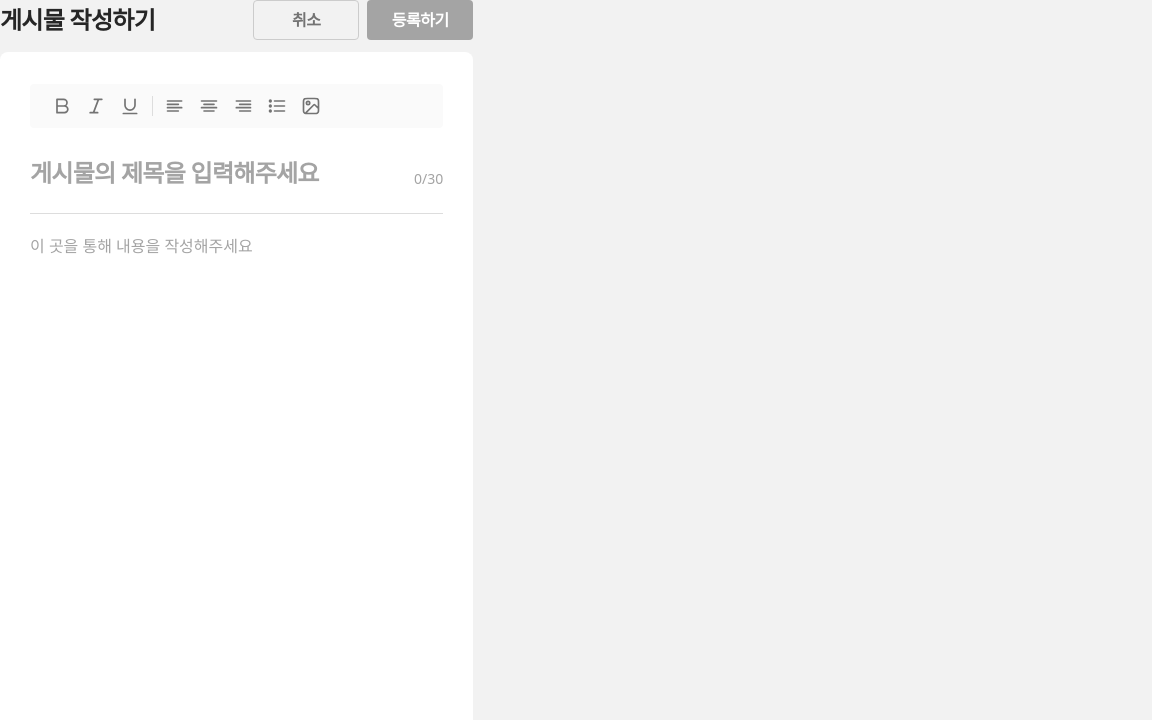
Test: 변경사항이 있을 때 취소 클릭 시 confirm Modal이 열리고 즉시 뒤로 가지 않는다
Type "제목" into the field labelled "제목" at point(214, 173), box [30,157,398,189]
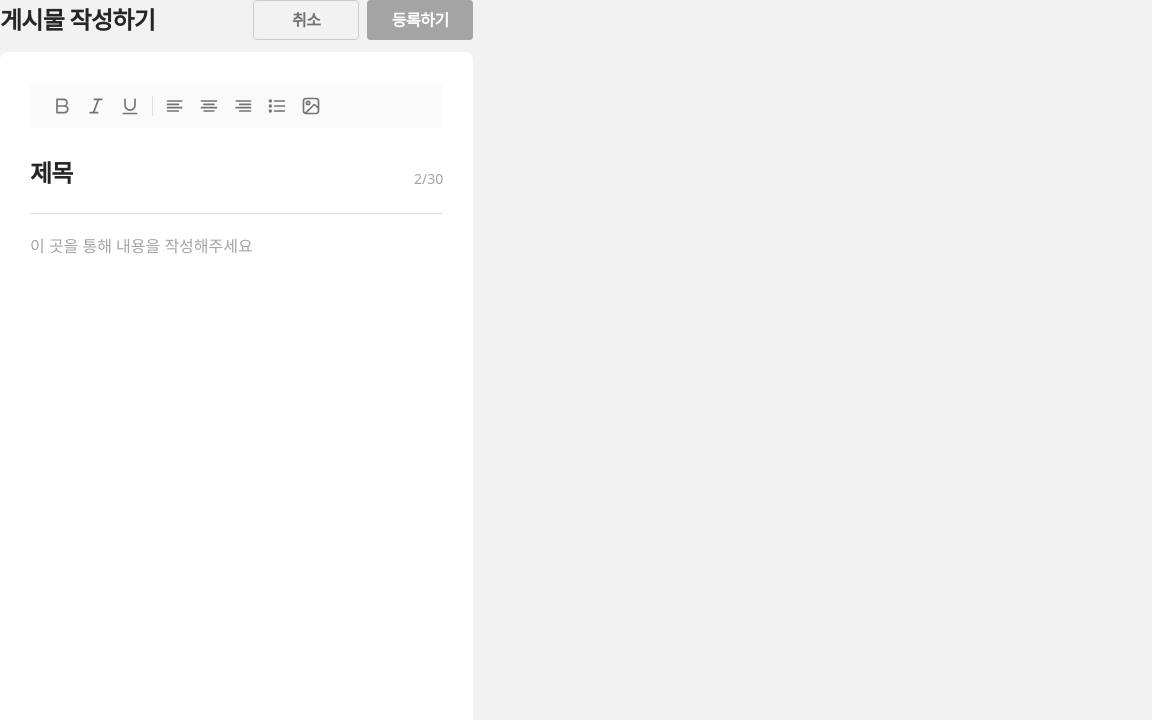
Click the button "취소" at point(306, 20), box [253,0,359,40]
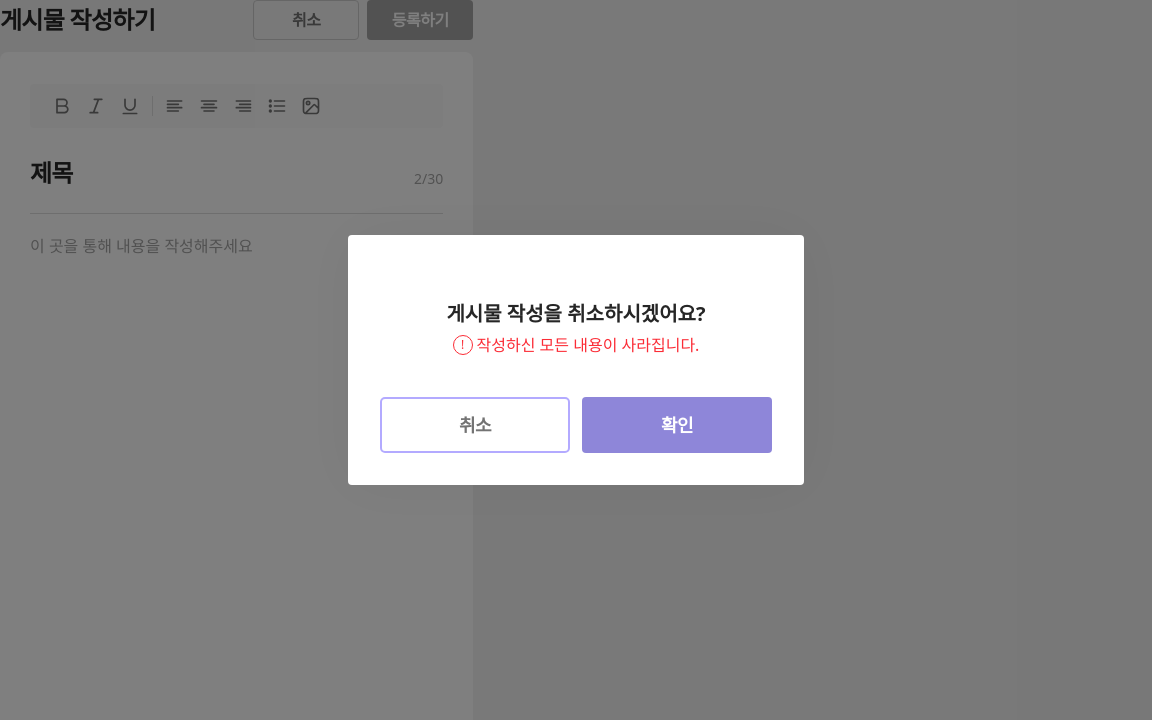
Expected: the button "확인" is shown, [582,397,772,453]
